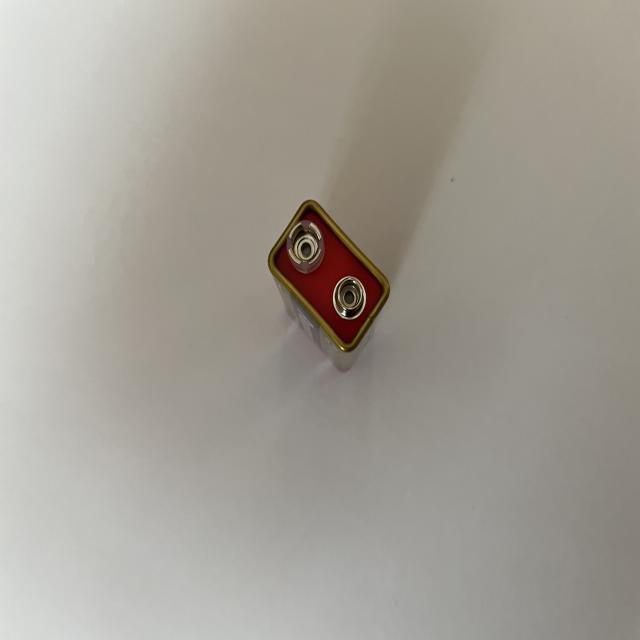9V: (267, 197, 390, 373)
